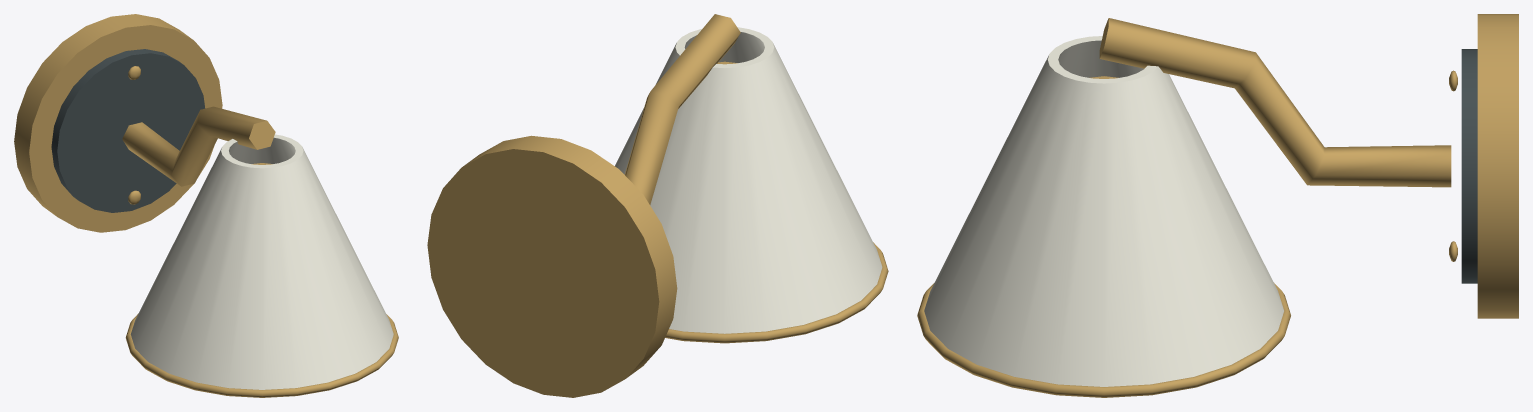
The model's file is lamp_wall_sconce.glb.
3 views of the same model, side by side, from view 1: azimuth 30°, elevation 25°; view 2: azimuth 150°, elevation 25°; view 3: azimuth 270°, elevation 25° (orthographic). The views are drawn at different scales.
Visible parts, largest first — view 1: Sconce_Open_Shade, Sconce_Plate_Inset, Sconce_Wall_Plate, Sconce_Curved_Support, Sconce_Shade_Rim; view 2: Sconce_Wall_Plate, Sconce_Open_Shade, Sconce_Curved_Support, Sconce_Shade_Rim; view 3: Sconce_Open_Shade, Sconce_Curved_Support, Sconce_Wall_Plate, Sconce_Shade_Rim, Sconce_Plate_Inset.
Boxes of the visible parts, x1,y1,x2,y2 form: Sconce_Open_Shade: (130,134,393,389); Sconce_Plate_Inset: (51,49,205,212); Sconce_Wall_Plate: (14,14,222,232); Sconce_Curved_Support: (122,106,275,186); Sconce_Shade_Rim: (125,313,398,397); Sconce_Wall_Plate: (427,135,677,397); Sconce_Open_Shade: (615,27,882,333); Sconce_Curved_Support: (624,14,740,204); Sconce_Shade_Rim: (665,242,888,343); Sconce_Open_Shade: (924,36,1283,386); Sconce_Curved_Support: (1099,18,1451,187); Sconce_Wall_Plate: (1477,14,1518,318); Sconce_Shade_Rim: (917,283,1290,397); Sconce_Plate_Inset: (1461,49,1477,283).
Bounding box in the file's own units: 0.318 × 0.2795 × 0.5115.
